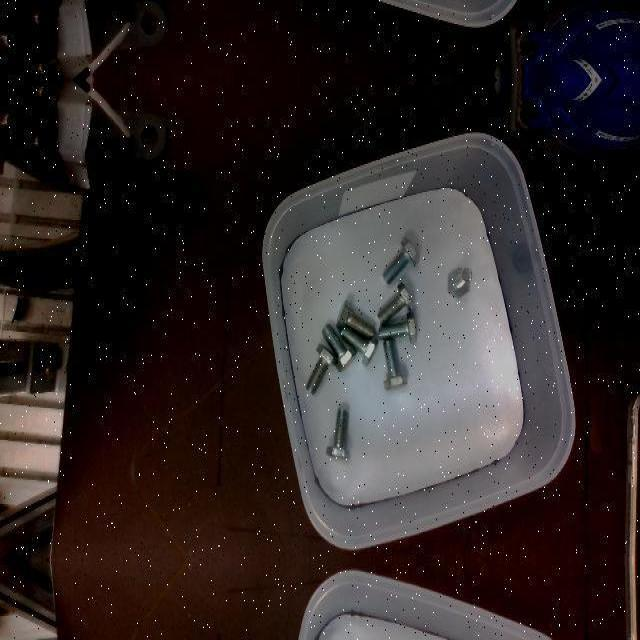screw: (382, 236, 420, 284), (322, 324, 357, 372), (376, 282, 414, 326), (306, 343, 339, 393), (336, 299, 375, 339), (340, 326, 378, 366), (383, 338, 408, 390), (378, 311, 417, 343), (325, 408, 349, 458), (448, 267, 473, 299)
